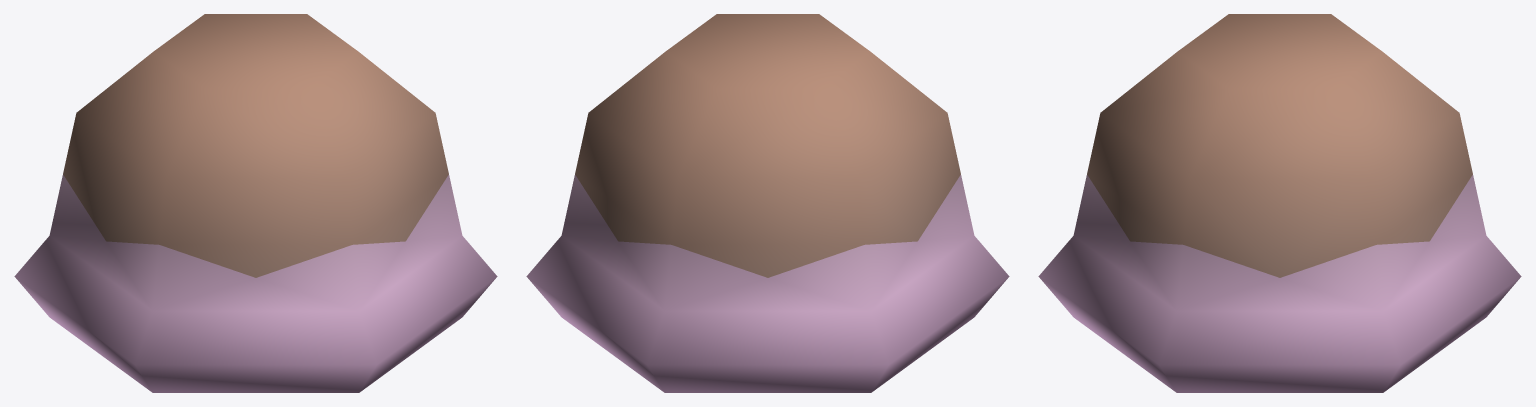
The model's file is ice-cream-scoop-chocolate.glb.
3 views of the same model, side by side, from view 1: azimuth 30°, elevation 25°; view 2: azimuth 150°, elevation 25°; view 3: azimuth 270°, elevation 25° (orthographic).
Visible parts, largest first — view 1: ice-cream-scoop-chocolate; view 2: ice-cream-scoop-chocolate; view 3: ice-cream-scoop-chocolate.
Boxes of the visible parts, x1=… form: ice-cream-scoop-chocolate: x1=14, y1=14, x2=497, y2=392; ice-cream-scoop-chocolate: x1=526, y1=14, x2=1009, y2=392; ice-cream-scoop-chocolate: x1=1038, y1=14, x2=1521, y2=392.
Bounding box in the file's own units: 0.2352 × 0.165 × 0.2716.
